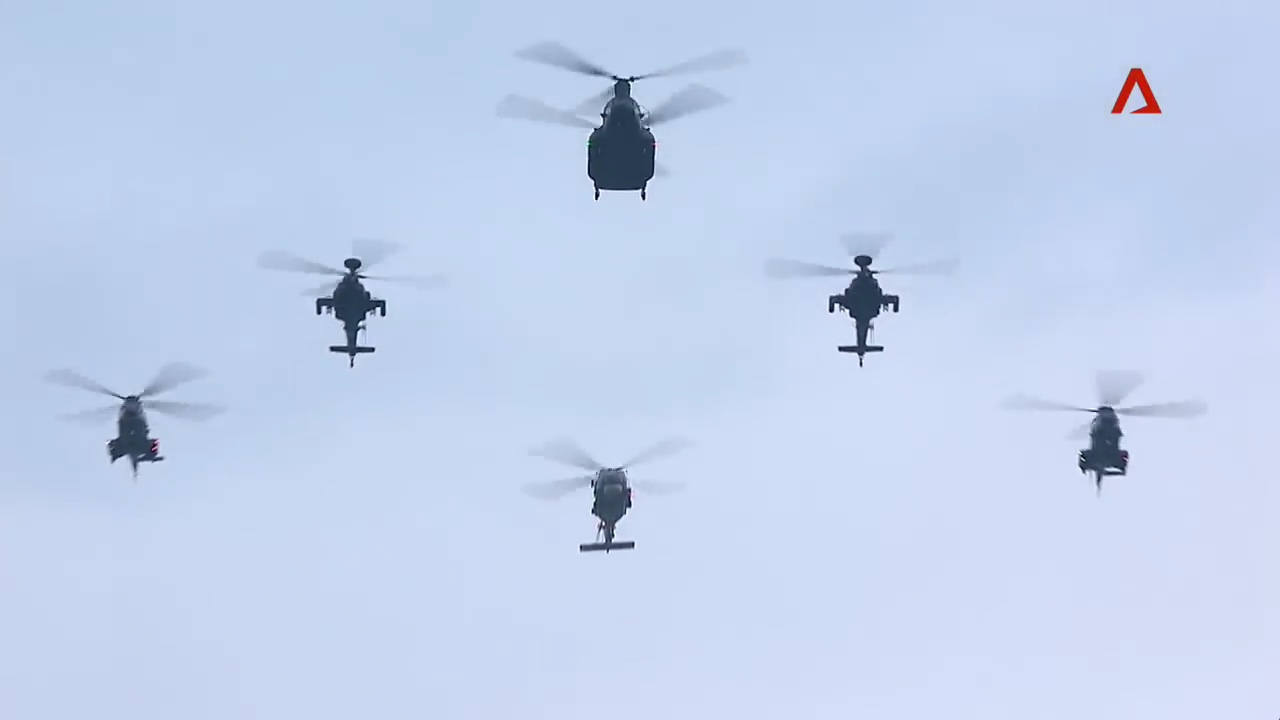ah64: (761, 230, 961, 368), (256, 237, 447, 368)
chinook: (490, 37, 750, 204)
cougar: (998, 367, 1208, 499), (43, 364, 231, 486)
seahawk: (523, 434, 695, 554)
